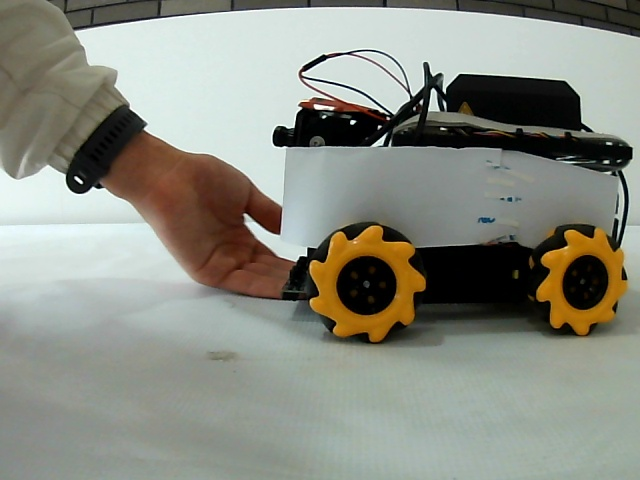car: (277, 66, 634, 340)
paper: (286, 145, 614, 230)
